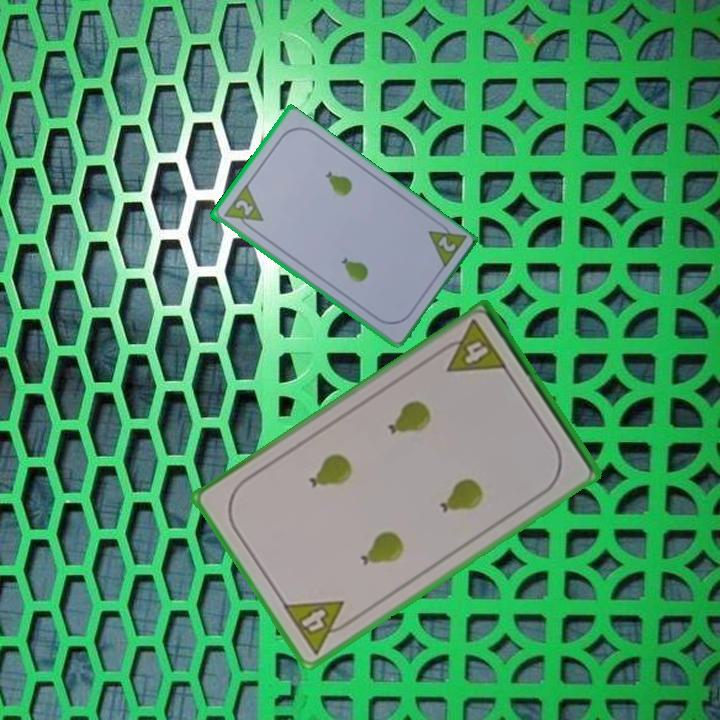2p: (219, 182, 266, 235), (434, 232, 458, 255)
4p: (279, 597, 358, 658), (433, 316, 510, 376)
